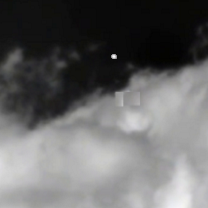Target: (110, 52, 118, 60)
